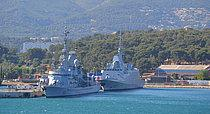MIL_Ship: (43, 24, 100, 96), (98, 28, 146, 91)
